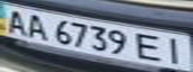3: (87, 24, 109, 53)
6: (48, 17, 72, 46)
7: (66, 20, 90, 50)
9: (106, 26, 133, 56)
A: (0, 7, 30, 35), (24, 11, 51, 40)
E: (133, 30, 169, 63)
I: (160, 34, 193, 65)
